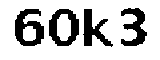0: (47, 6, 81, 49)
3: (118, 2, 149, 51)
6: (13, 6, 45, 49)
k: (82, 4, 114, 51)
